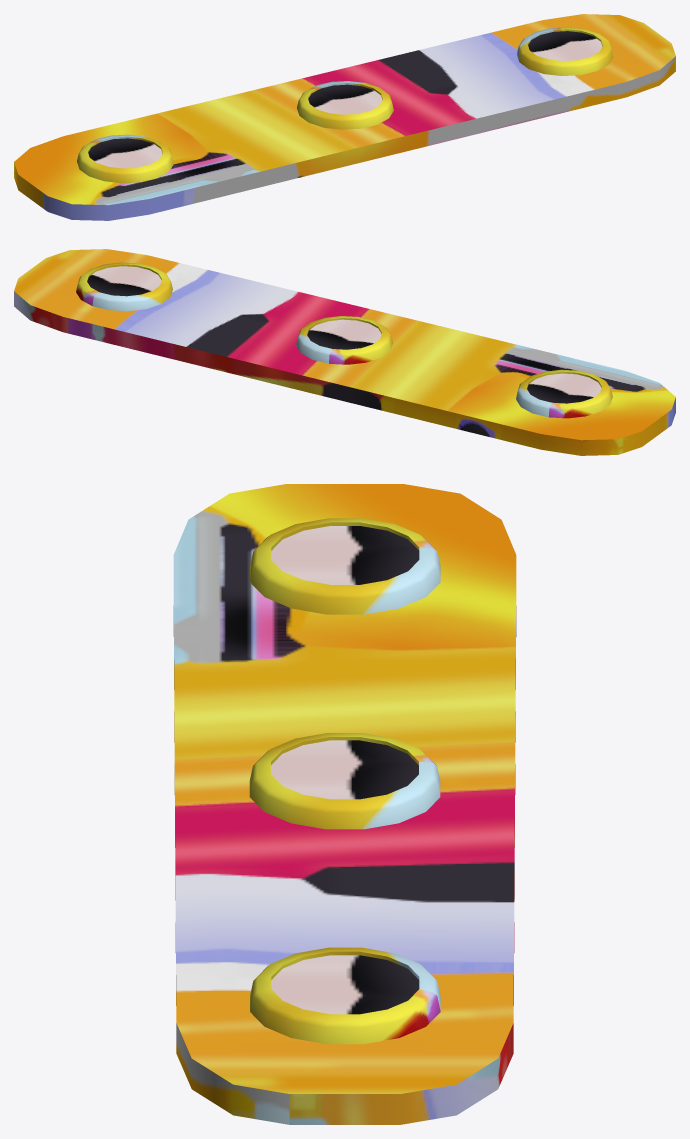
File: dif5.1.fbx
3 views of the same model, one above another, from view 1: azimuth 30°, elevation 25°; view 2: azimuth 150°, elevation 25°; view 3: azimuth 270°, elevation 25° (orthographic). The views are drawn at different scales.
Parts seen in each view (by area): view 1: Circle.004; view 2: Circle.004; view 3: Circle.004.
Part boxes in pixels (bbox=[...]): Circle.004: bbox=[14, 14, 675, 220]; Circle.004: bbox=[14, 249, 675, 455]; Circle.004: bbox=[173, 484, 516, 1124].
Bounding box in the file's own units: 1584 × 63.31 × 377.
